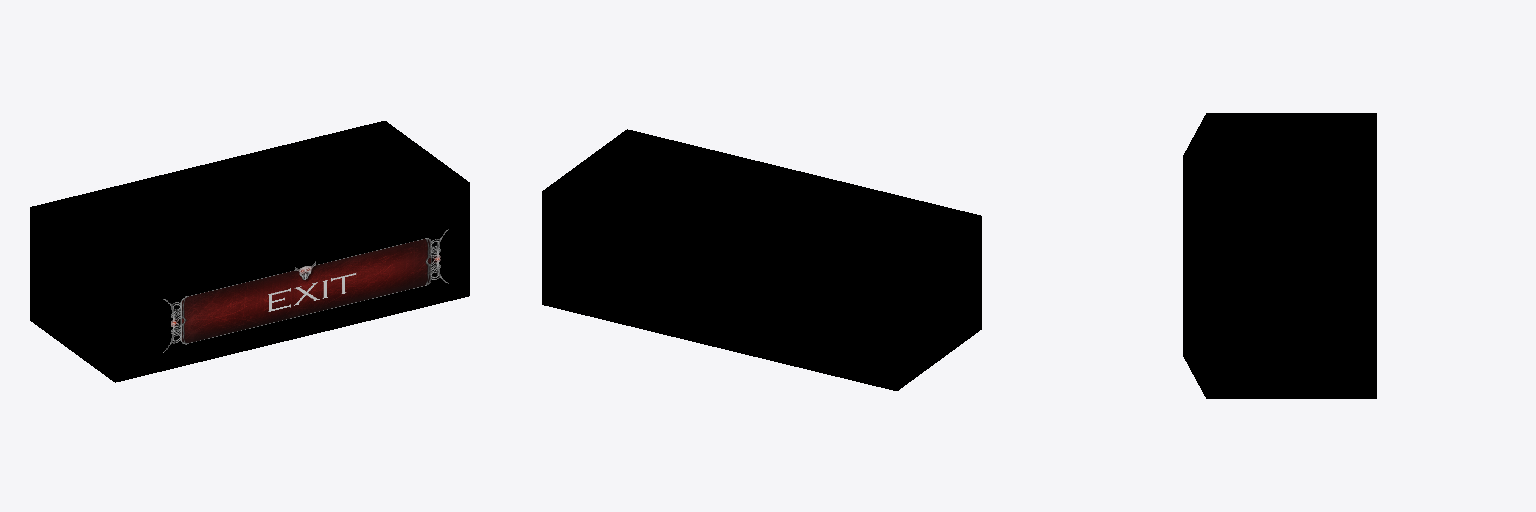
3 views of the same model, side by side, from view 1: azimuth 30°, elevation 25°; view 2: azimuth 150°, elevation 25°; view 3: azimuth 270°, elevation 25° (orthographic).
Visible parts, largest first — view 1: ExitButton6:pCube2; view 2: ExitButton6:pCube2; view 3: ExitButton6:pCube2.
Boxes of the visible parts, x1,y1,x2,y2 form: ExitButton6:pCube2: [30, 121, 469, 382]; ExitButton6:pCube2: [542, 129, 981, 390]; ExitButton6:pCube2: [1183, 113, 1376, 398].
Size of the model in its own units: 1.46 by 0.443 by 0.69.
2 materials, 1 textured.